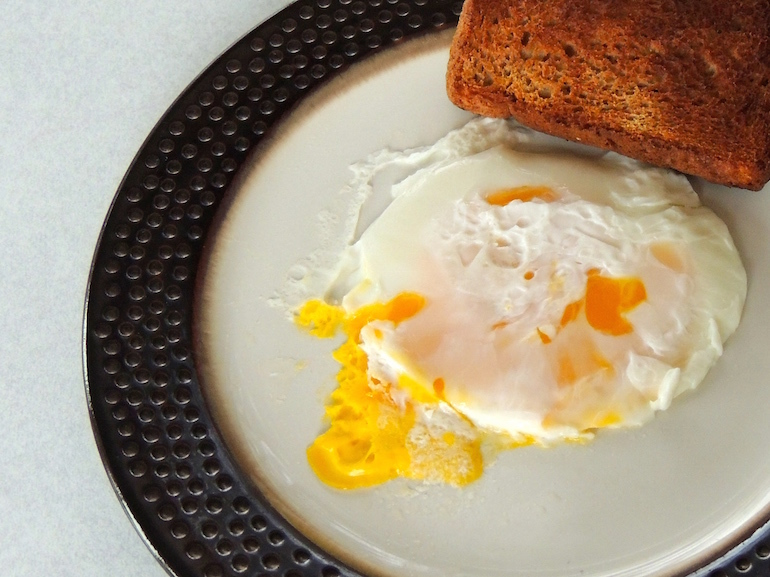fried egg: (366, 170, 659, 435)
slice of bread: (425, 58, 768, 174)
